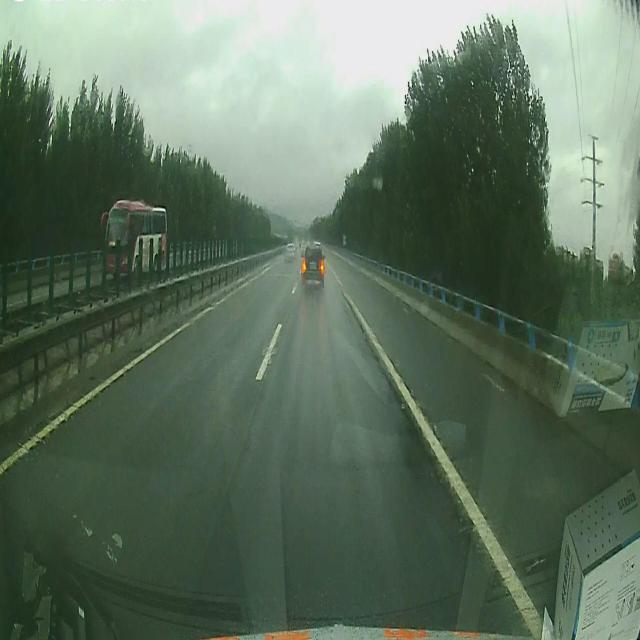car: (303, 240, 326, 288)
